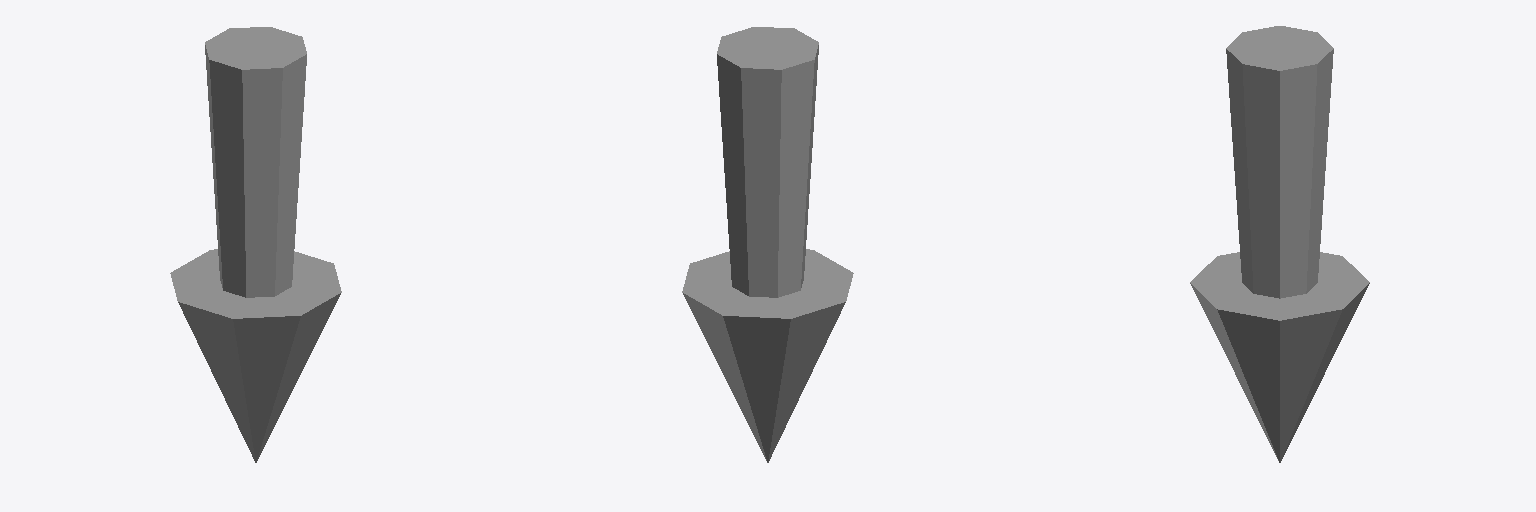
File: arrow1.obj
3 views of the same model, side by side, from view 1: azimuth 30°, elevation 25°; view 2: azimuth 150°, elevation 25°; view 3: azimuth 270°, elevation 25° (orthographic).
Parts seen in each view (by area): view 1: Box003; view 2: Box003; view 3: Box003.
Part boxes in pixels (bbox=[...]): Box003: bbox=[170, 27, 341, 462]; Box003: bbox=[682, 27, 853, 462]; Box003: bbox=[1190, 26, 1369, 462].
Size of the model in its own units: 0.3928 by 0.9977 by 0.3928.